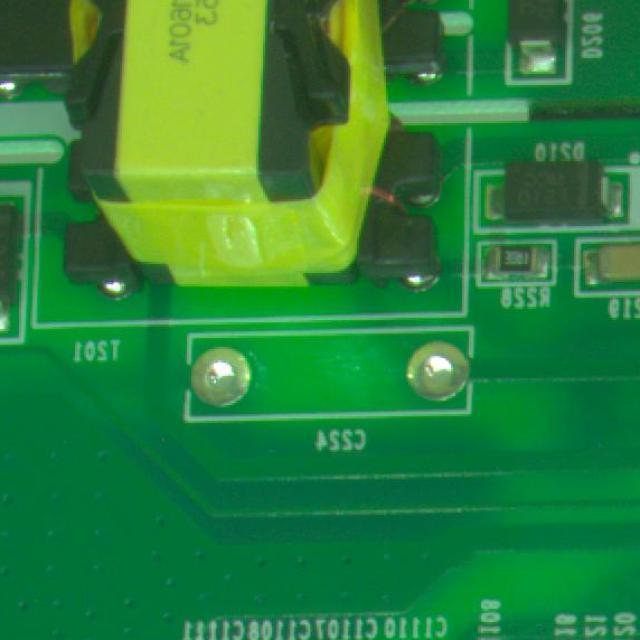Insufficient solder: (396, 326, 494, 408), (186, 316, 260, 410)
